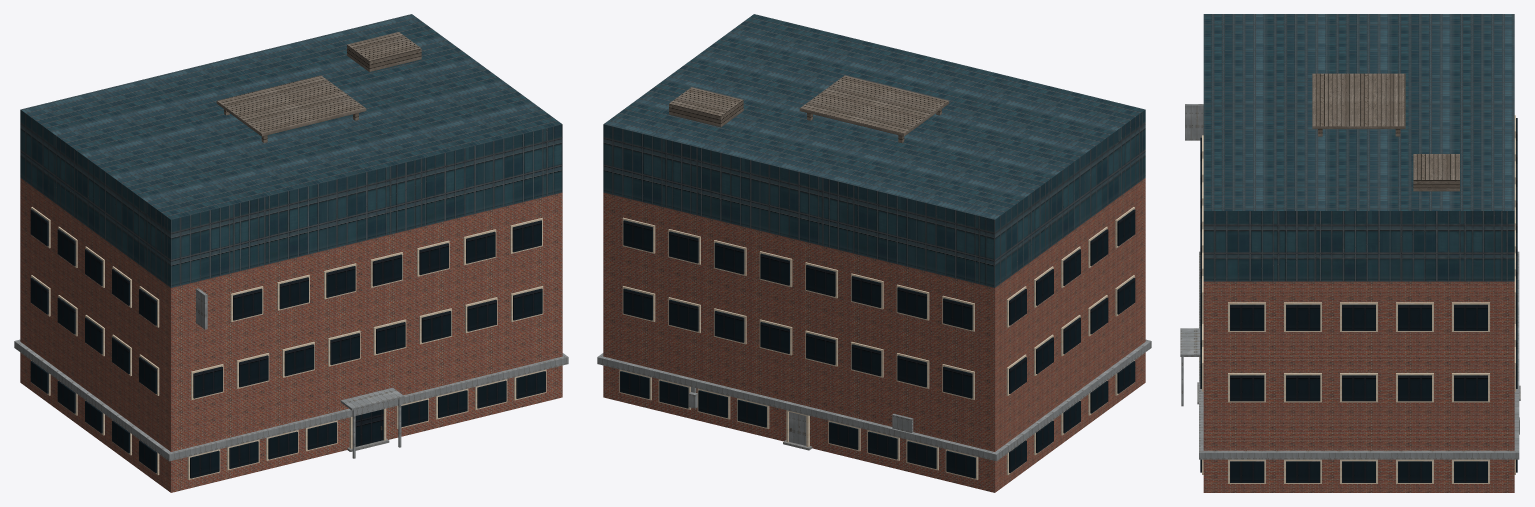
File: skyline-table-block_lod0.gltf
The picture shows the model from 3 angles, left to right: view 1: azimuth 30°, elevation 25°; view 2: azimuth 150°, elevation 25°; view 3: azimuth 270°, elevation 25°; orthographic projection. The views are drawn at different scales.
Parts seen in each view (by area): view 1: skyline-table-block_tier1, skyline-table-block_tier0, skyline-table-block_fen_07-glass-curtain-blue_1_t, skyline-table-block_fen_04-limestone_0, skyline-table-block__trim_band, skyline-table-block__pergola, skyline-table-block__terrace_tables, skyline-table-block_fen_14-steel-panel_4; view 2: skyline-table-block_tier1, skyline-table-block_tier0, skyline-table-block_fen_07-glass-curtain-blue_1_t, skyline-table-block_fen_04-limestone_0, skyline-table-block__trim_band, skyline-table-block__pergola, skyline-table-block__terrace_tables, skyline-table-block_fen_14-steel-panel_4; view 3: skyline-table-block_tier1, skyline-table-block_tier0, skyline-table-block_fen_07-glass-curtain-blue_1_t, skyline-table-block__pergola, skyline-table-block_fen_04-limestone_0, skyline-table-block__trim_band, skyline-table-block__terrace_tables, skyline-table-block_fen_14-steel-panel_4, skyline-table-block__blade_sign.
Boxes of the visible parts, x1=… form: skyline-table-block_tier1: x1=20, y1=14, x2=562, y2=287; skyline-table-block_tier0: x1=20, y1=178, x2=562, y2=492; skyline-table-block_fen_07-glass-curtain-blue_1_t: x1=30, y1=209, x2=545, y2=478; skyline-table-block_fen_04-limestone_0: x1=31, y1=207, x2=546, y2=479; skyline-table-block__trim_band: x1=14, y1=339, x2=568, y2=461; skyline-table-block__pergola: x1=216, y1=75, x2=366, y2=136; skyline-table-block__terrace_tables: x1=347, y1=32, x2=421, y2=71; skyline-table-block_fen_14-steel-panel_4: x1=340, y1=387, x2=404, y2=458; skyline-table-block_tier1: x1=603, y1=14, x2=1145, y2=287; skyline-table-block_tier0: x1=603, y1=178, x2=1145, y2=492; skyline-table-block_fen_07-glass-curtain-blue_1_t: x1=620, y1=209, x2=1135, y2=478; skyline-table-block_fen_04-limestone_0: x1=619, y1=207, x2=1134, y2=479; skyline-table-block__trim_band: x1=597, y1=339, x2=1151, y2=461; skyline-table-block__pergola: x1=799, y1=75, x2=949, y2=136; skyline-table-block__terrace_tables: x1=669, y1=87, x2=743, y2=126; skyline-table-block_fen_14-steel-panel_4: x1=689, y1=387, x2=913, y2=445; skyline-table-block_tier1: x1=1203, y1=14, x2=1514, y2=281; skyline-table-block_tier0: x1=1203, y1=281, x2=1514, y2=492; skyline-table-block_fen_07-glass-curtain-blue_1_t: x1=1200, y1=118, x2=1517, y2=482; skyline-table-block__pergola: x1=1312, y1=73, x2=1405, y2=128; skyline-table-block_fen_04-limestone_0: x1=1199, y1=115, x2=1515, y2=483; skyline-table-block__trim_band: x1=1199, y1=251, x2=1519, y2=459; skyline-table-block__terrace_tables: x1=1413, y1=154, x2=1459, y2=191; skyline-table-block_fen_14-steel-panel_4: x1=1180, y1=328, x2=1519, y2=434; skyline-table-block__blade_sign: x1=1185, y1=104, x2=1203, y2=140.
Size of the model in its own units: 30.6 by 20.9 by 21.9.
